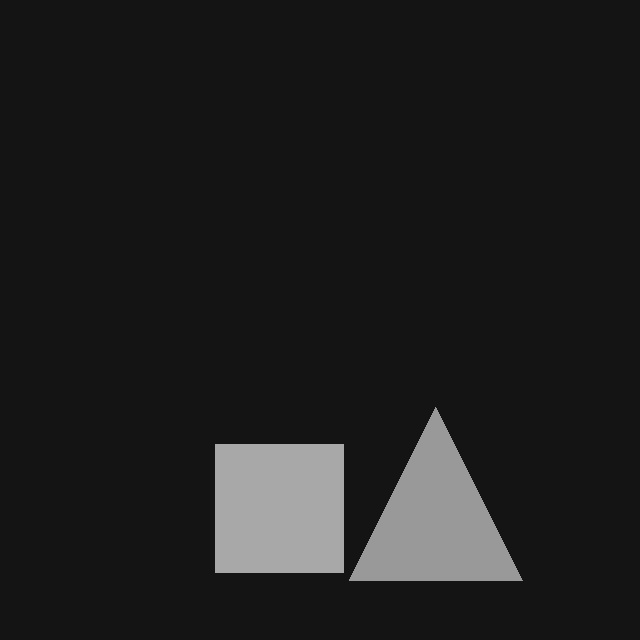square: (215, 444, 343, 572)
triangle: (349, 407, 522, 580)
